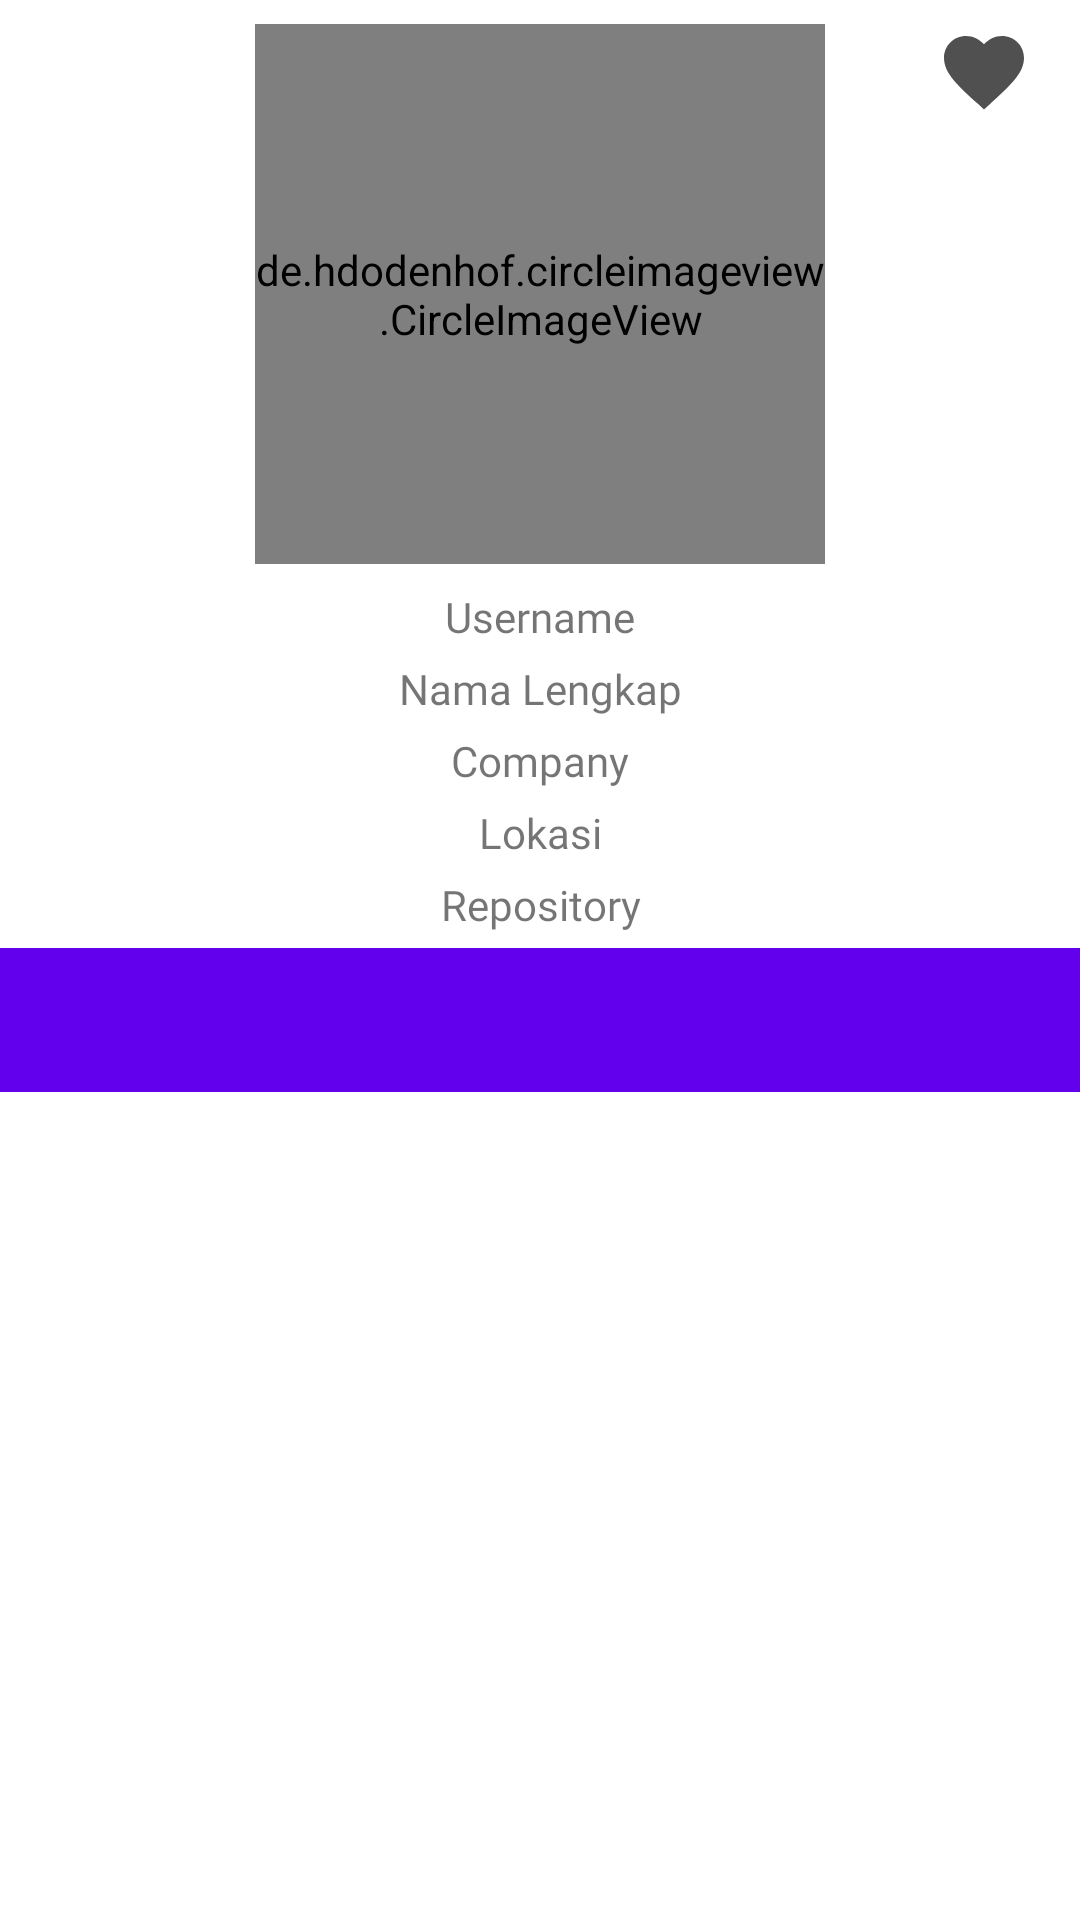

Screen size 1080 × 1920. Icon name, then its center in pixels as point (x, y):
favorite: point (984, 72)
